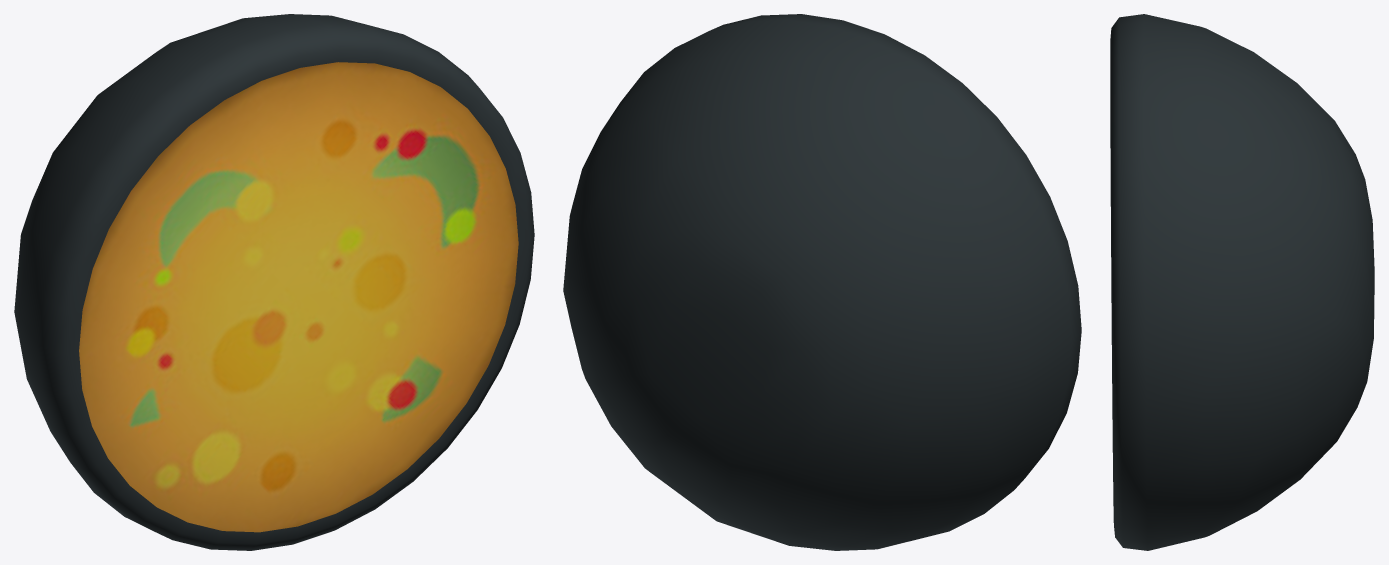
Rendered from yellow_soup.glb.
3 renders of one model, left to right at view 1: azimuth 30°, elevation 25°; view 2: azimuth 150°, elevation 25°; view 3: azimuth 270°, elevation 25°, orthographic. The views are drawn at different scales.
Visible parts, largest first — view 1: yellow_soup; view 2: yellow_soup; view 3: yellow_soup.
Boxes of the visible parts, x1=… form: yellow_soup: x1=14, y1=14, x2=534, y2=550; yellow_soup: x1=563, y1=14, x2=1081, y2=550; yellow_soup: x1=1110, y1=14, x2=1374, y2=550.
Size of the model in its own units: 0.6585 by 0.6578 by 0.3232.
Materials: 1 (1 with a texture image).
